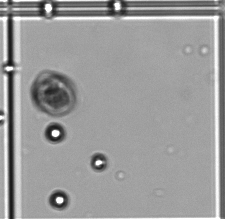Dead Cell: (30, 70, 80, 118)
Living Cell: (44, 121, 65, 144), (48, 189, 70, 210), (90, 151, 108, 172), (40, 1, 57, 20), (107, 1, 127, 17), (1, 60, 18, 75), (1, 110, 6, 125)
